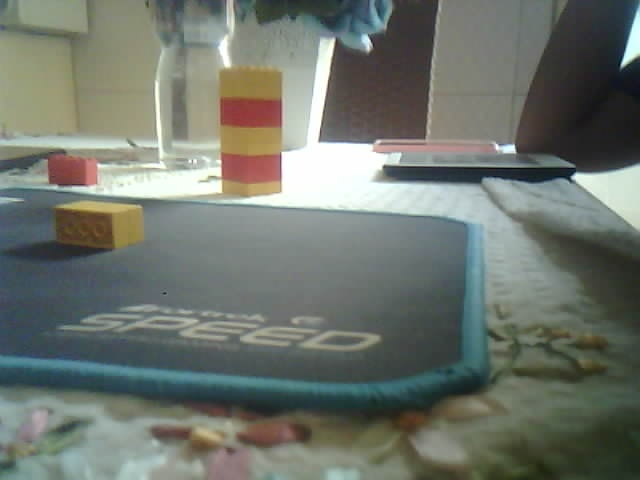lego: (216, 65, 284, 197), (53, 199, 144, 250), (47, 152, 99, 189)
